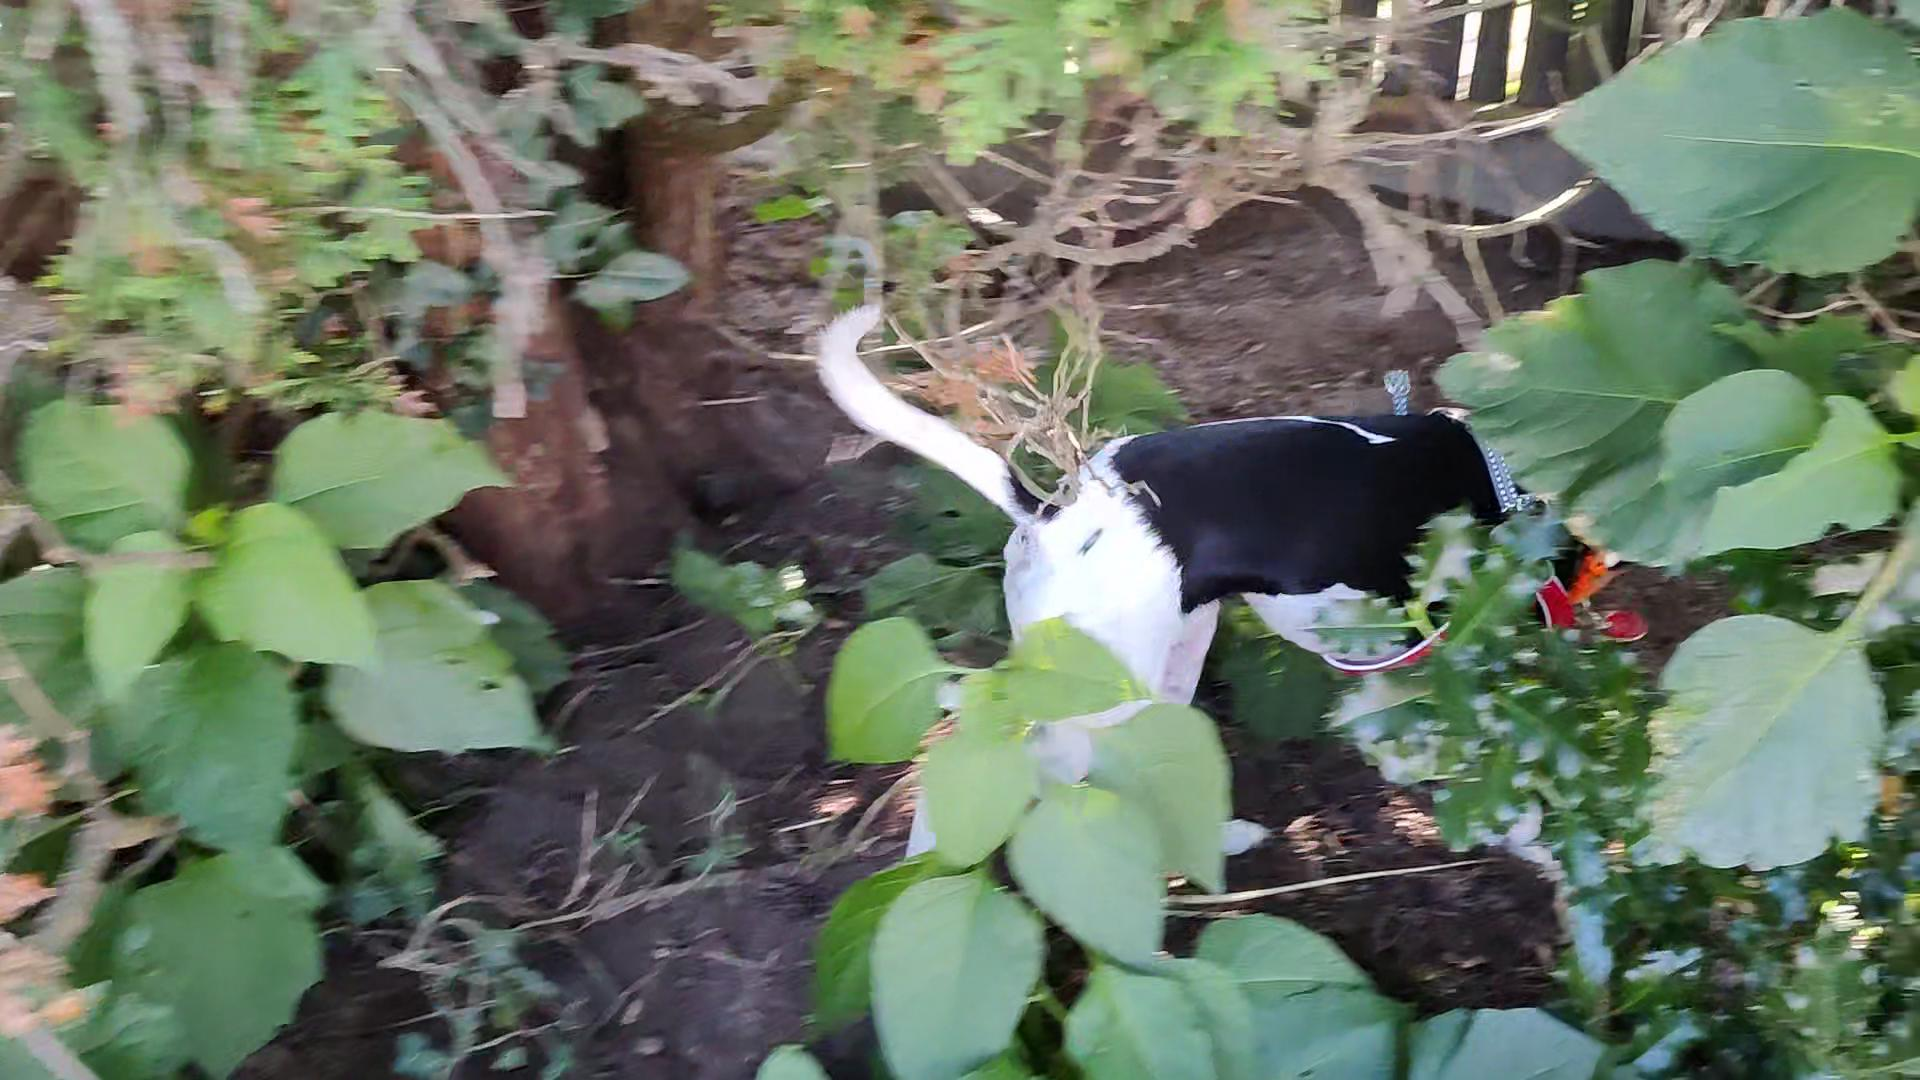Dog: (791, 253, 1630, 899)
